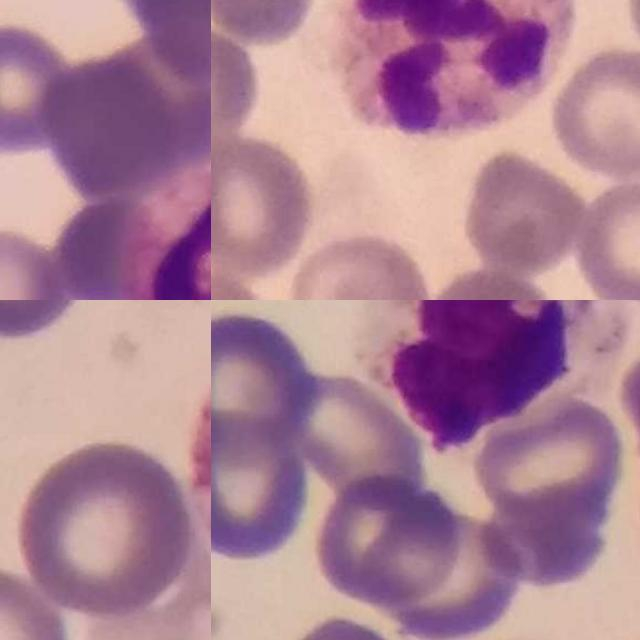Neutrophil: (357, 300, 623, 443), (325, 0, 574, 138)
